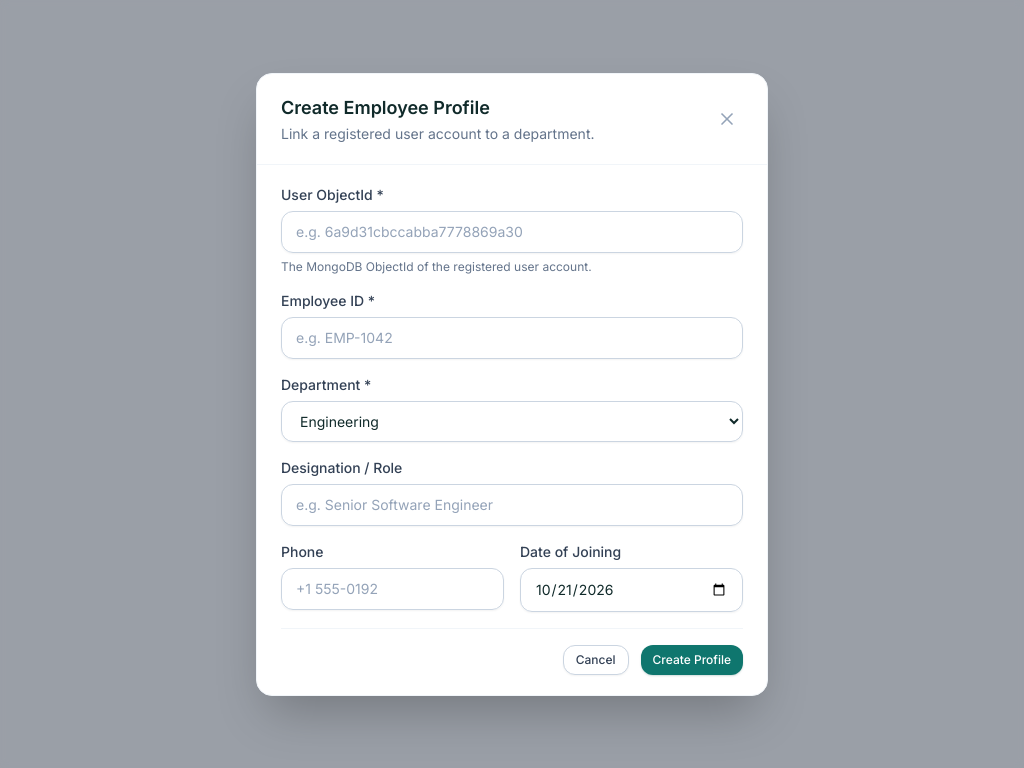
Admin Component Suite › EmployeeModal › renders create mode and validates required fields
The image size is (1024, 768).
expect the heading "Create Employee Profile" is shown: met, box top-left (281, 96), bottom-right (490, 118)
Submit without filling
Click the button "Create Profile": x=692, y=660 top-left (640, 644), bottom-right (743, 674)
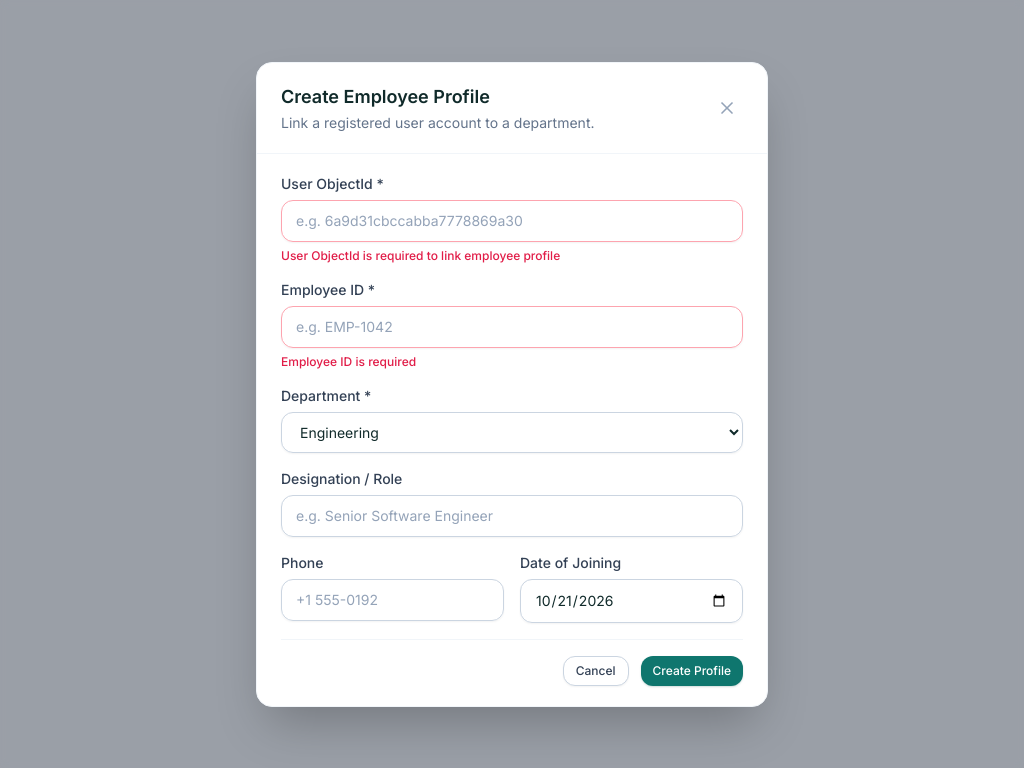
expect the text "User ObjectId is required to link employee profile" is shown: met, box top-left (281, 248), bottom-right (560, 262)
expect the text "Employee ID is required" is shown: met, box top-left (281, 354), bottom-right (416, 368)
